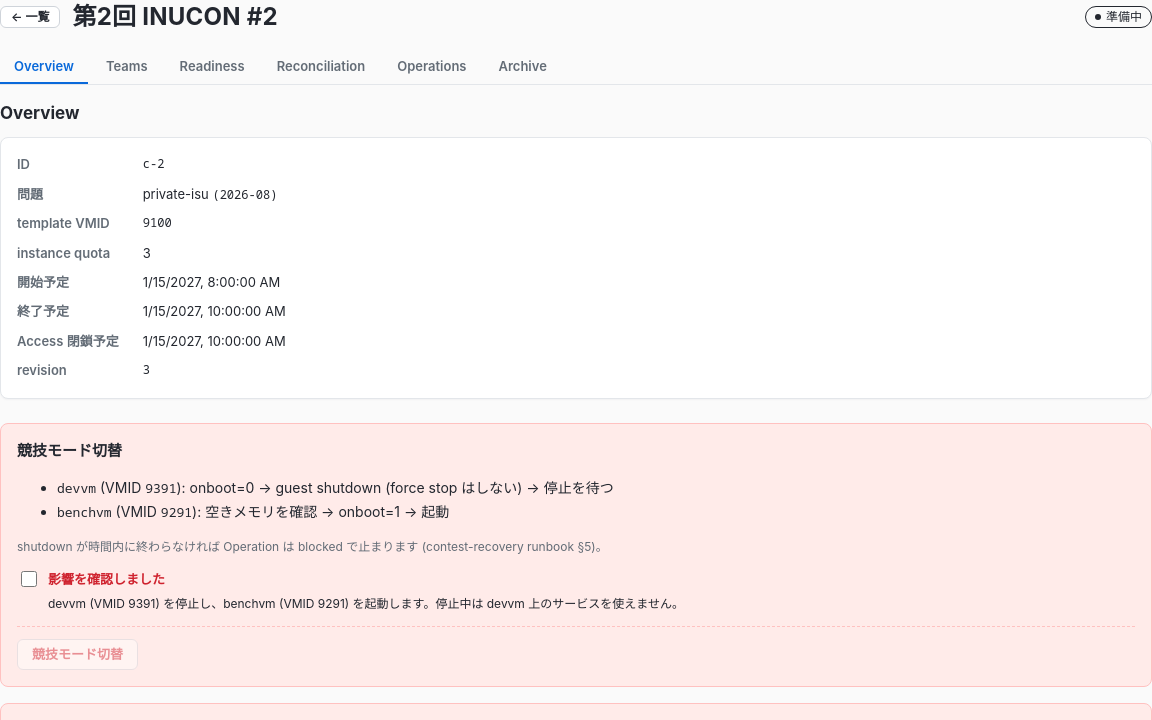
Test: ContestAdmin › stale plan (409 StaleReconciliationPlan) は再診断を促すメッセージを表示
Check: the heading "第2回 INUCON #2" is shown, box [72,2,278,31]
Click the tab "Reconciliation": (321, 67) [263,50,379,84]
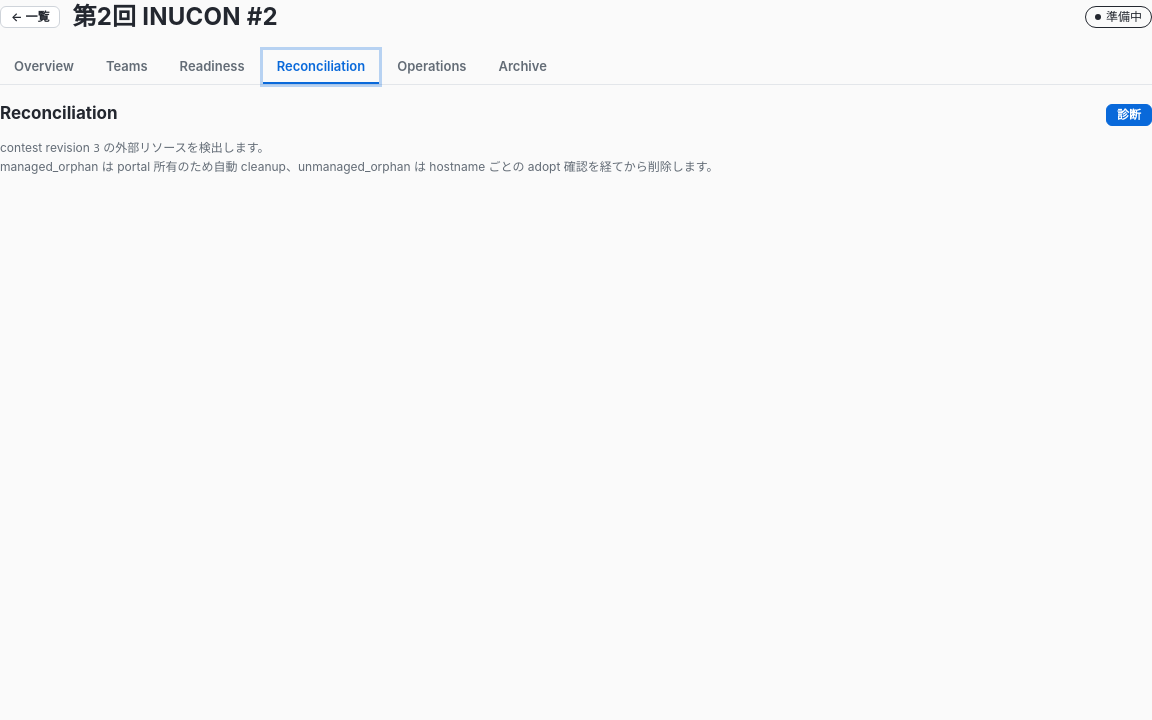
Click the button "診断": (1129, 115) [1106,104,1151,126]
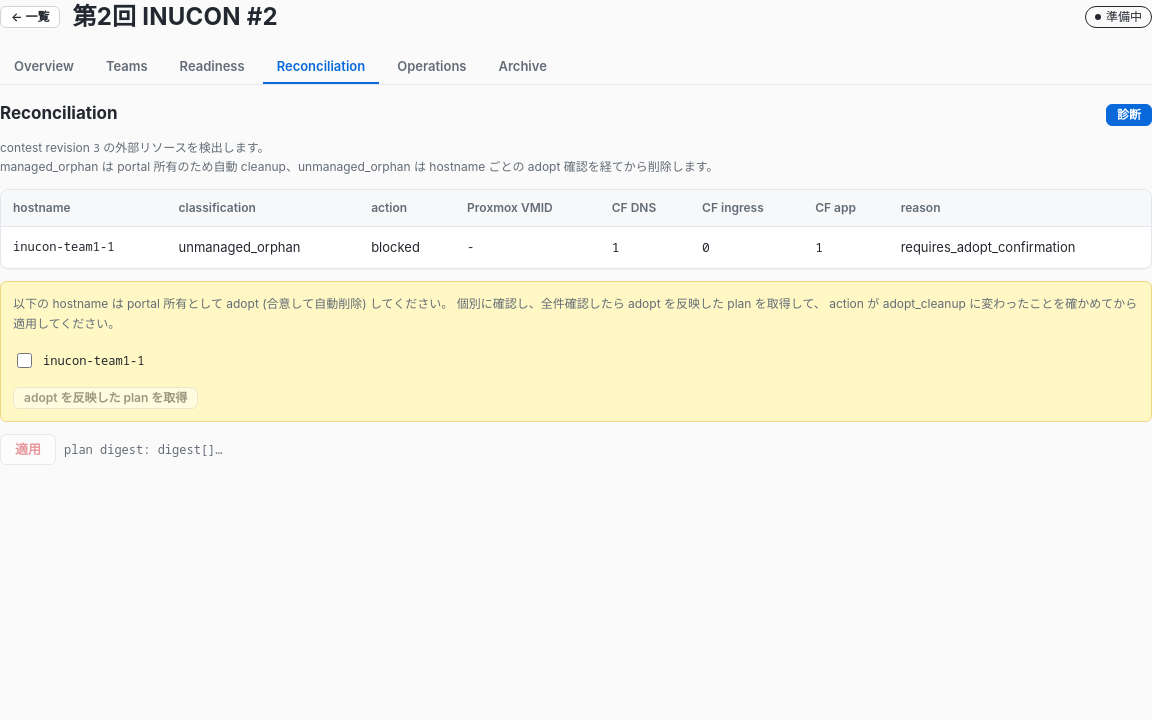
Click the checkbox labelled "inucon-team1-1": (24, 360) [17,353,32,368]
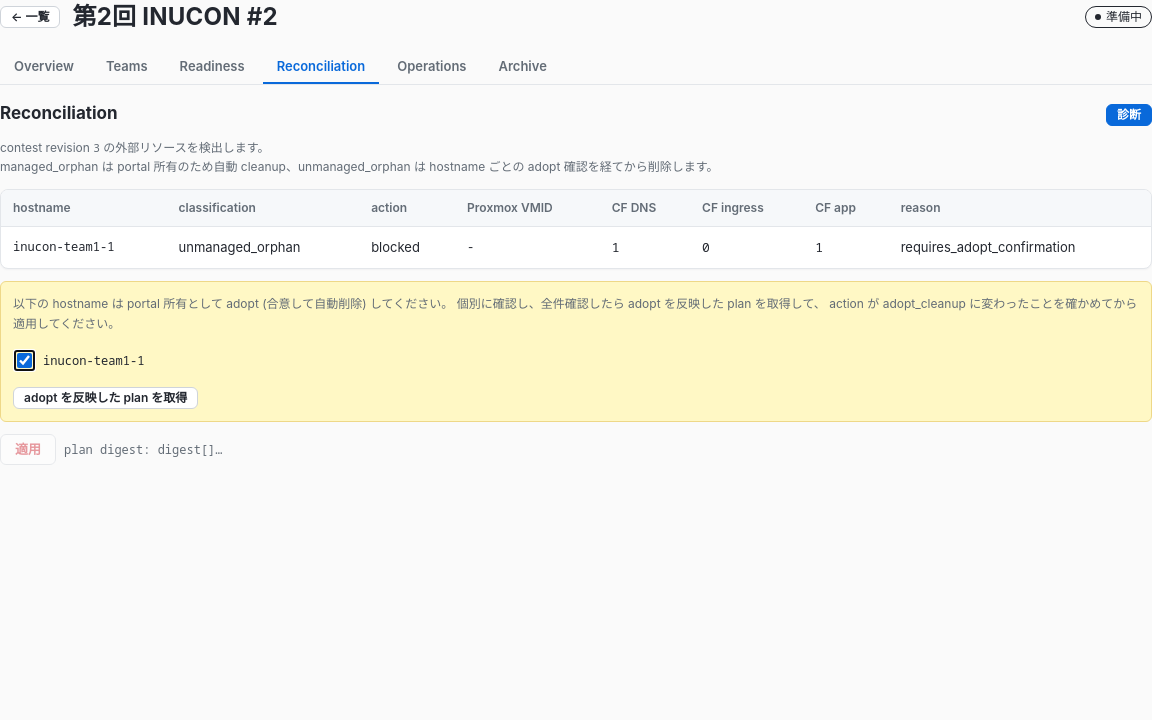
Click the button "adopt を反映した plan を取得": (106, 398) [13,387,198,409]
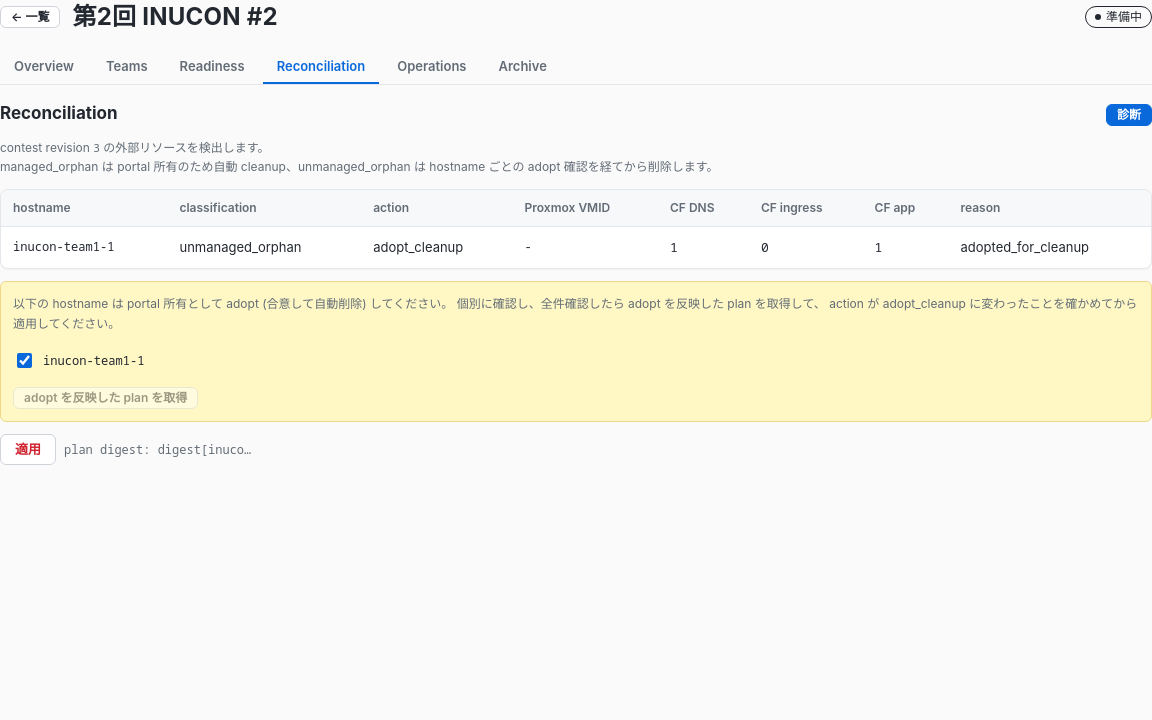
Check: the text "adopt_cleanup" is shown, box [361,226,513,268]
Click the button "適用": (28, 450) [0,434,56,465]
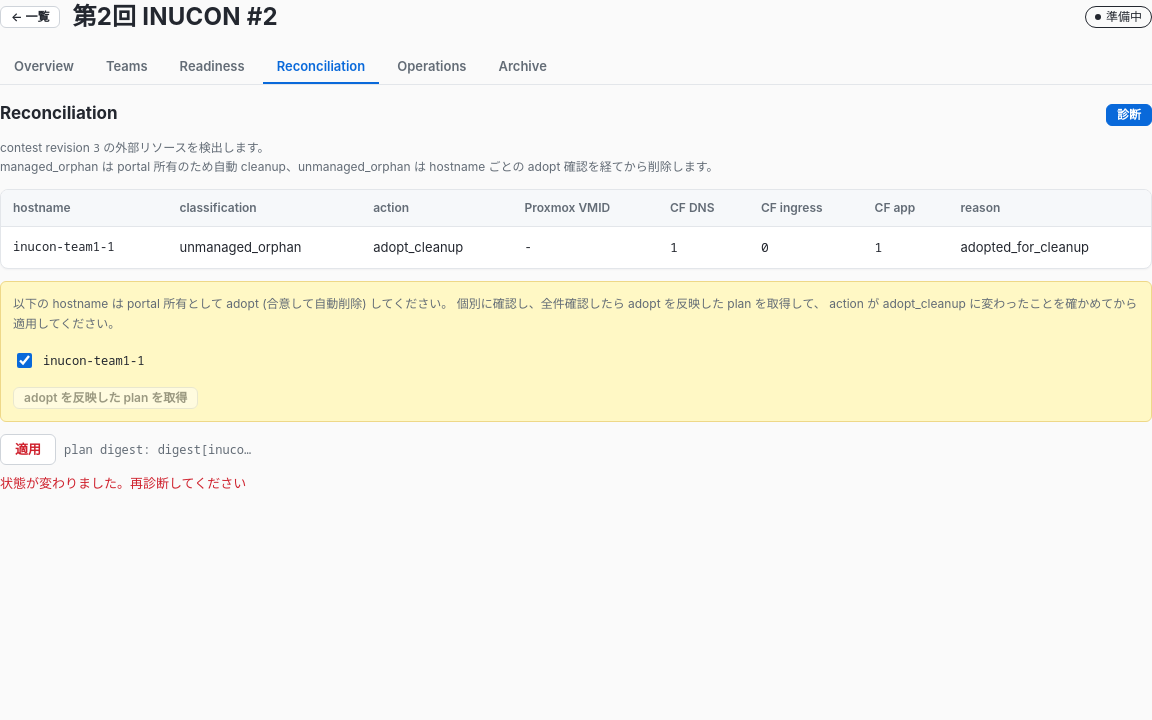
Check: the text "状態が変わりました。再診断してください" is shown, box [0,475,246,491]
